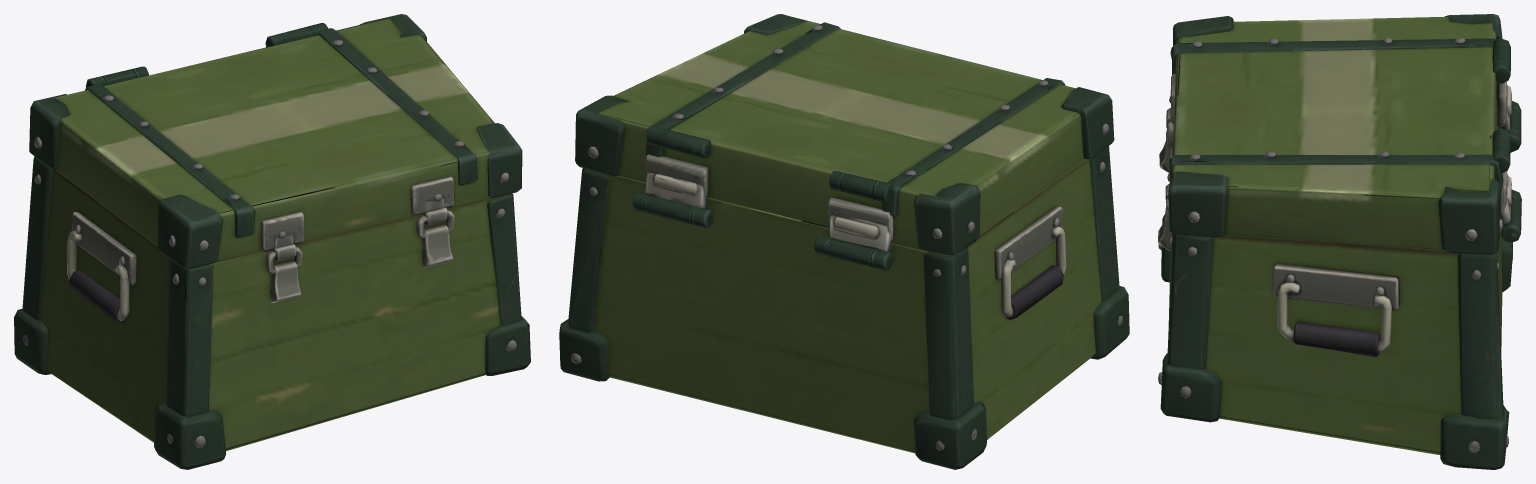
Rendered from tier-2-supply.glb.
3 views of the same model, side by side, from view 1: azimuth 30°, elevation 25°; view 2: azimuth 150°, elevation 25°; view 3: azimuth 270°, elevation 25° (orthographic). The views are drawn at different scales.
Parts seen in each view (by area): view 1: geometry_0; view 2: geometry_0; view 3: geometry_0.
Part boxes in pixels (<box>): geometry_0: <box>14,14,530,469</box>; geometry_0: <box>559,14,1129,469</box>; geometry_0: <box>1158,14,1521,469</box>.
Bounding box in the file's own units: 1 × 0.6329 × 0.7674.
Materials: 1 (1 with a texture image).
